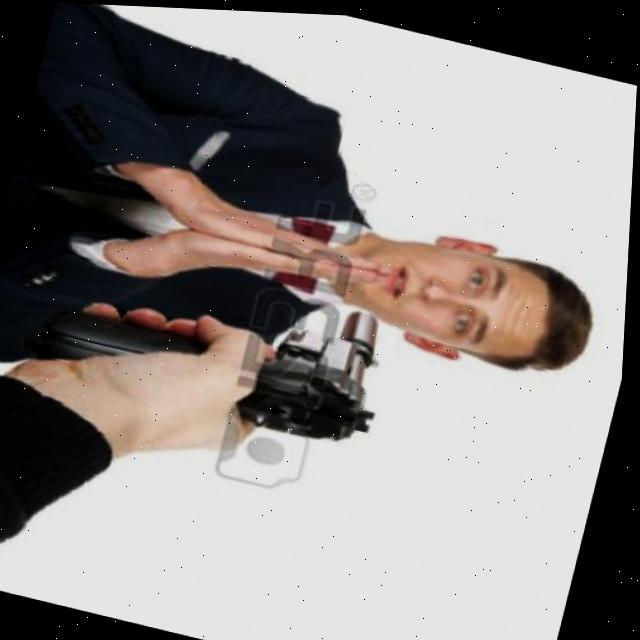gun: (42, 239, 404, 460)
